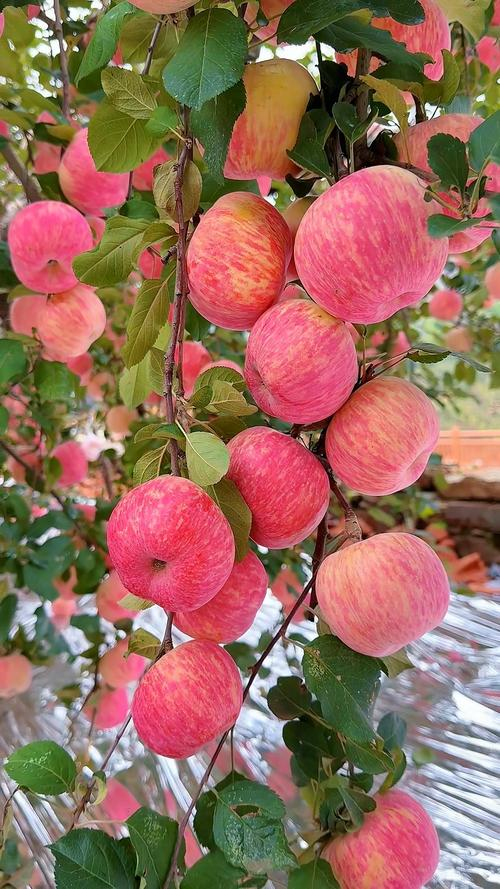ripe: (286, 166, 472, 329), (98, 469, 240, 610), (177, 184, 302, 340), (104, 635, 259, 760), (308, 531, 451, 664), (322, 379, 445, 503), (215, 424, 324, 560), (247, 295, 356, 417), (322, 791, 454, 889), (0, 193, 100, 302)
unripe: (195, 54, 322, 175)
